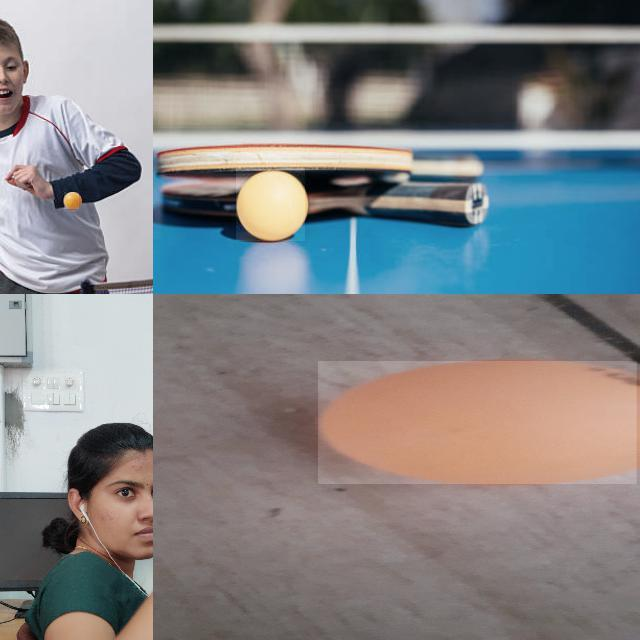ping-pong-ball: (317, 361, 638, 484), (236, 168, 306, 242), (64, 192, 80, 210)
